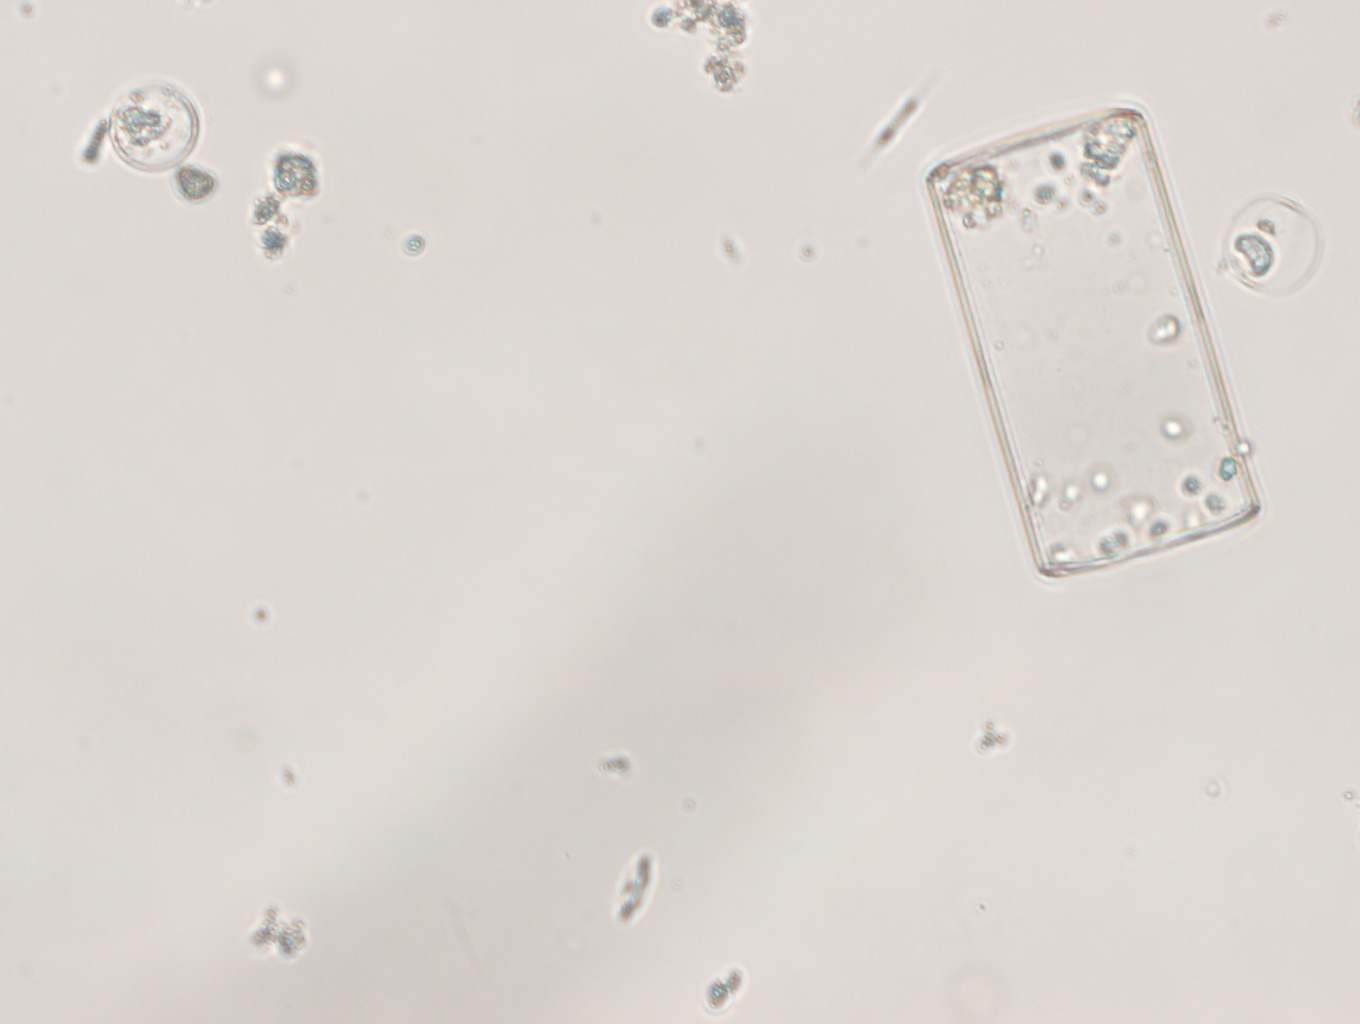guinardia flaccida: (924, 105, 1262, 577)
